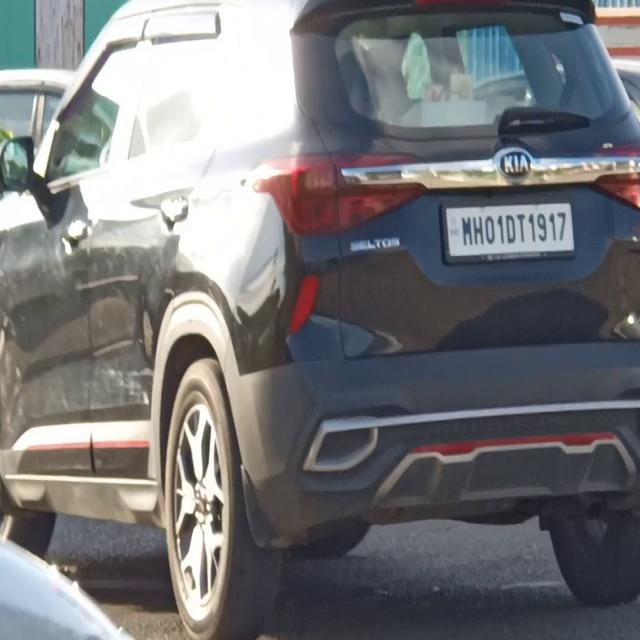Plate: (444, 205, 577, 256)
